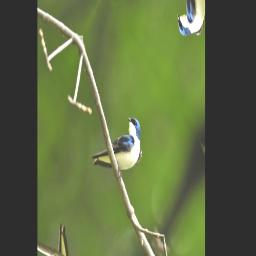Swallow: (89, 93, 151, 206)
